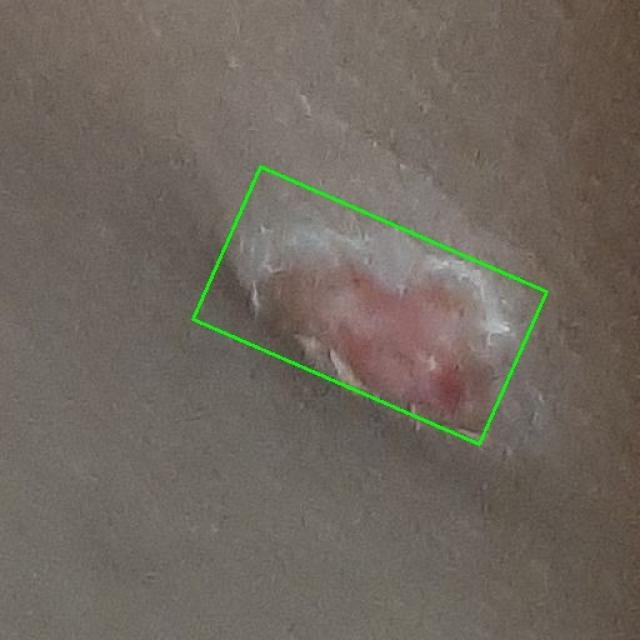Eczema: (194, 167, 547, 445)
